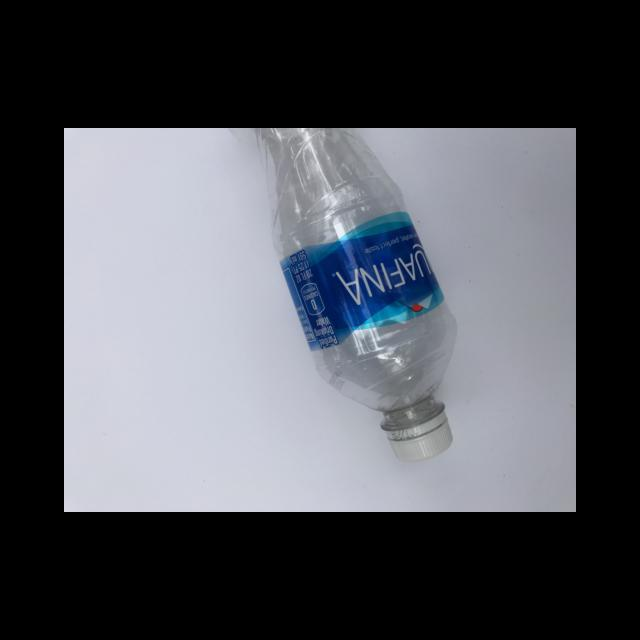plastic: (225, 128, 452, 464), (278, 206, 446, 351), (379, 401, 452, 464)
